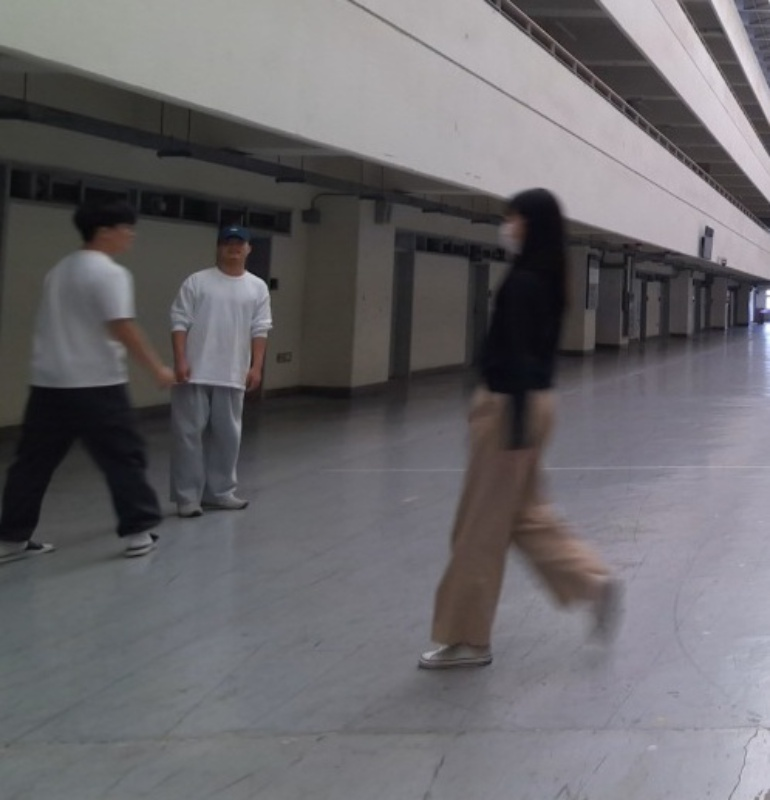person: (417, 185, 626, 674)
